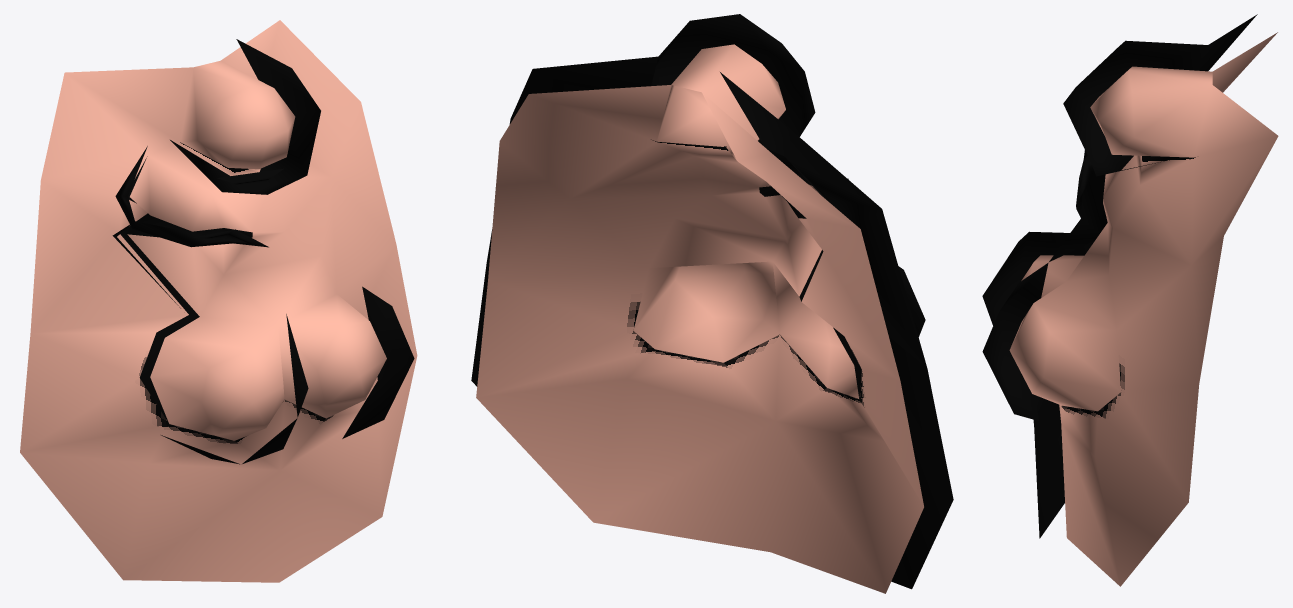
The model's file is mouth_8.obj.
The picture shows the model from 3 angles, left to right: view 1: azimuth 30°, elevation 25°; view 2: azimuth 150°, elevation 25°; view 3: azimuth 270°, elevation 25°; orthographic projection. The views are drawn at different scales.
Parts seen in each view (by area): view 1: Mesh_0090.002_Mesh_0090Mesh.002, Mesh_0089.001_Mesh_0089Mesh.001; view 2: Mesh_0090.002_Mesh_0090Mesh.002, Mesh_0089.001_Mesh_0089Mesh.001; view 3: Mesh_0090.002_Mesh_0090Mesh.002, Mesh_0089.001_Mesh_0089Mesh.001.
Boxes of the visible parts, bbox=[...] form: Mesh_0090.002_Mesh_0090Mesh.002: bbox=[20, 20, 417, 582]; Mesh_0089.001_Mesh_0089Mesh.001: bbox=[112, 39, 414, 464]; Mesh_0090.002_Mesh_0090Mesh.002: bbox=[476, 44, 923, 593]; Mesh_0089.001_Mesh_0089Mesh.001: bbox=[471, 14, 953, 589]; Mesh_0090.002_Mesh_0090Mesh.002: bbox=[1009, 32, 1278, 586]; Mesh_0089.001_Mesh_0089Mesh.001: bbox=[982, 14, 1257, 538].
Size of the model in its own units: 0.3766 by 0.4179 by 0.2277.
2 materials, 2 textured.
